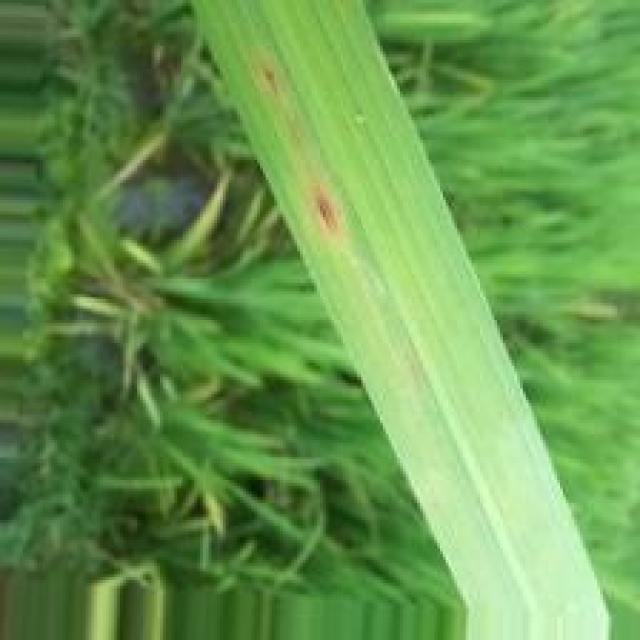Brown_Spot: (312, 176, 349, 241)
